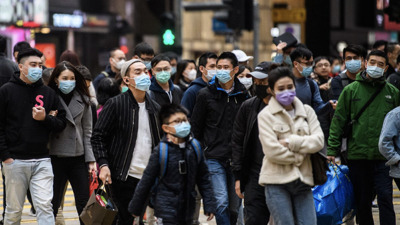with_mask: (274, 82, 297, 106), (130, 67, 152, 92), (171, 116, 192, 138), (24, 60, 44, 83), (366, 58, 386, 80), (216, 63, 234, 84), (58, 75, 76, 95), (252, 79, 269, 99), (345, 54, 362, 74), (154, 65, 171, 83), (237, 72, 254, 90), (300, 60, 314, 77), (113, 55, 127, 72), (140, 56, 155, 71), (205, 62, 217, 80), (184, 66, 198, 81), (331, 62, 341, 74)
without_mask: (316, 61, 331, 76)
